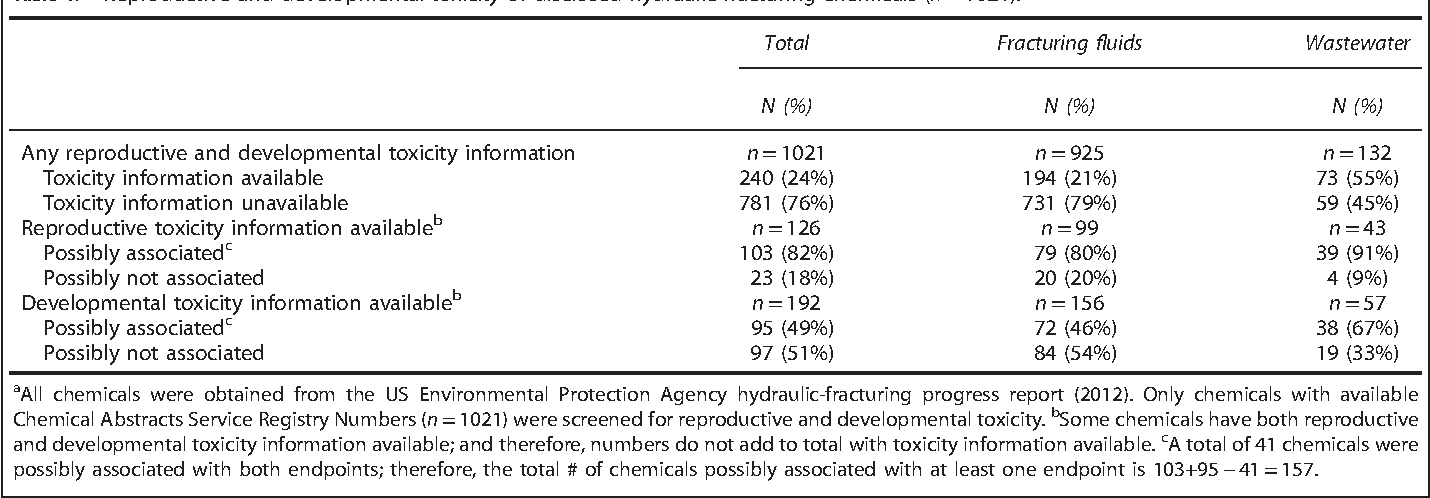fracking table: (8, 17, 1430, 382)
